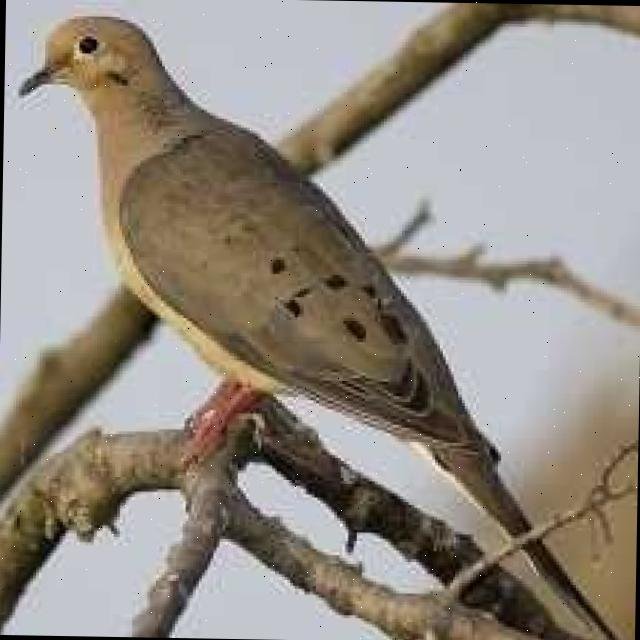dove: (6, 2, 597, 640)
